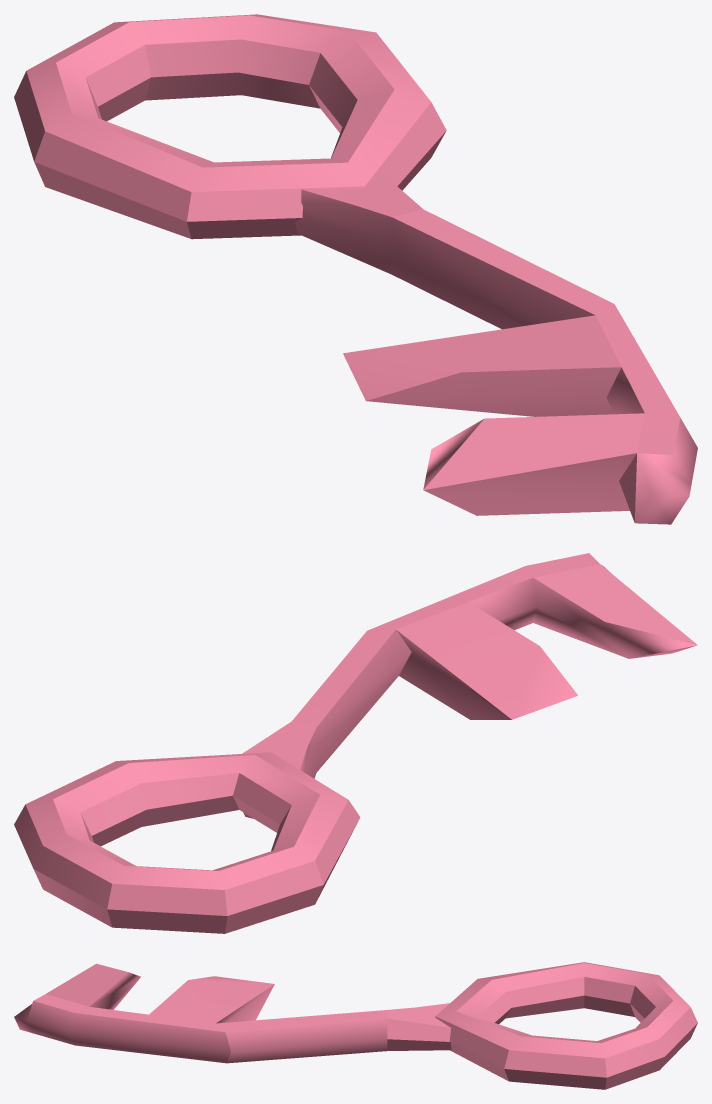
Rendered from funnyKeyExport.fbx.
3 views of the same model, one above another, from view 1: azimuth 30°, elevation 25°; view 2: azimuth 150°, elevation 25°; view 3: azimuth 270°, elevation 25° (orthographic). The views are drawn at different scales.
Visible parts, largest first — view 1: pCylinder3; view 2: pCylinder3; view 3: pCylinder3.
Boxes of the visible parts, box(x1,y1,x2,y2) form: pCylinder3: box(14, 14, 697, 524); pCylinder3: box(14, 553, 697, 933); pCylinder3: box(14, 962, 697, 1089).
Size of the model in its own units: 5.54 by 1 by 13.94.
